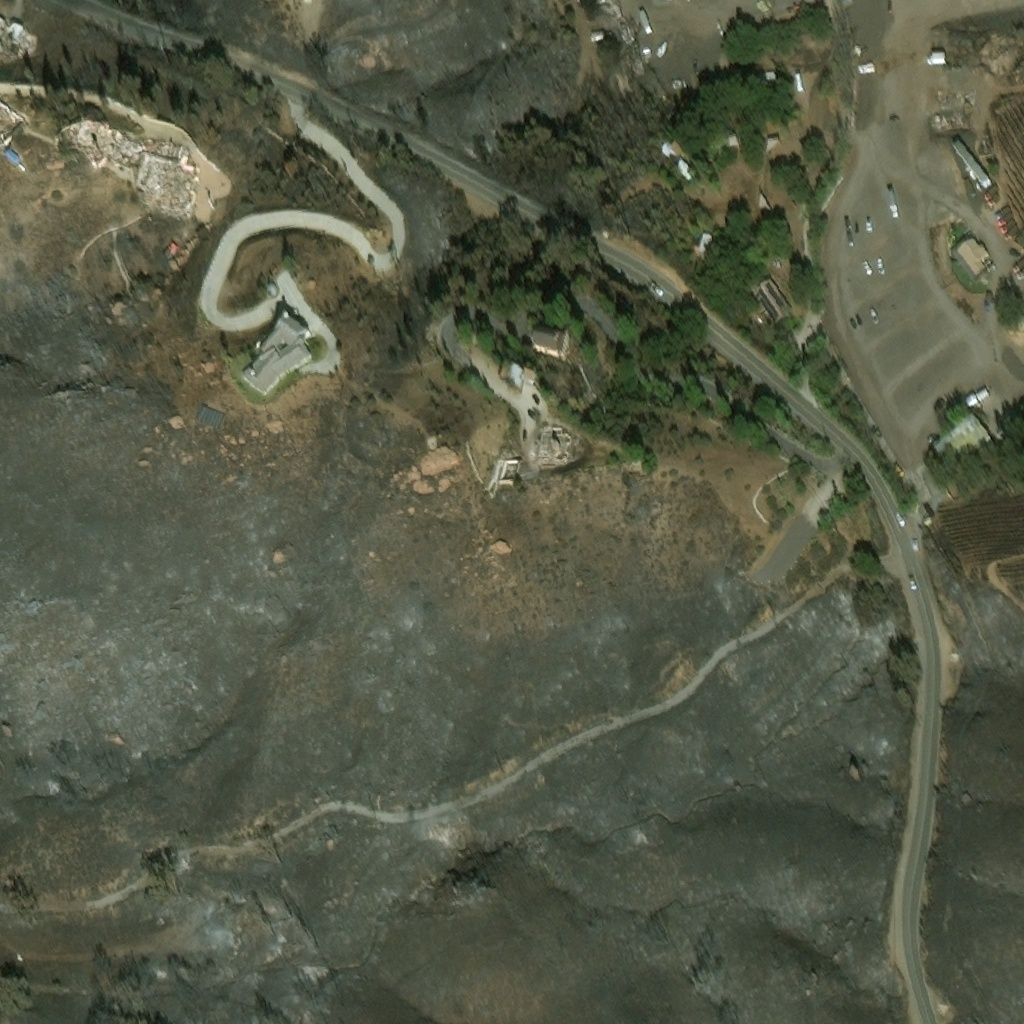0 no-damage: (242, 319, 315, 398), (933, 415, 992, 467), (751, 278, 792, 327), (952, 141, 990, 187), (950, 238, 988, 283), (661, 142, 696, 182), (958, 239, 990, 275), (533, 329, 568, 355), (502, 365, 534, 385), (697, 232, 711, 257), (590, 29, 613, 42), (757, 192, 771, 209), (765, 139, 781, 153), (759, 74, 777, 84), (727, 137, 738, 148), (268, 287, 278, 297), (840, 0, 854, 7), (791, 7, 801, 15), (961, 172, 971, 176)
1 minor-damage: (5, 148, 21, 165)
2 major-damage: (950, 38, 972, 59)
3 destroyed: (67, 115, 144, 173), (141, 161, 197, 214), (534, 430, 577, 469), (144, 140, 188, 164), (494, 460, 520, 490), (602, 0, 625, 28), (932, 113, 965, 124)
